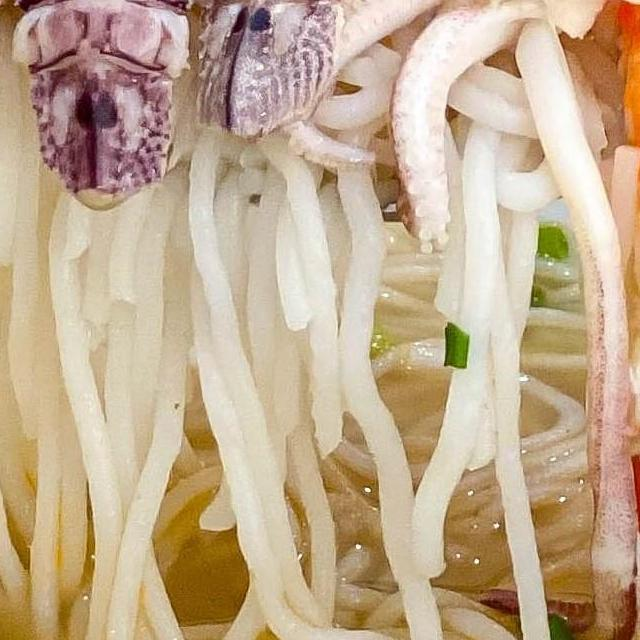bun: (0, 12, 640, 640)
bun hai san: (0, 0, 640, 640)
muc: (272, 0, 640, 257)
tom tit: (3, 0, 231, 219), (180, 0, 434, 143)
